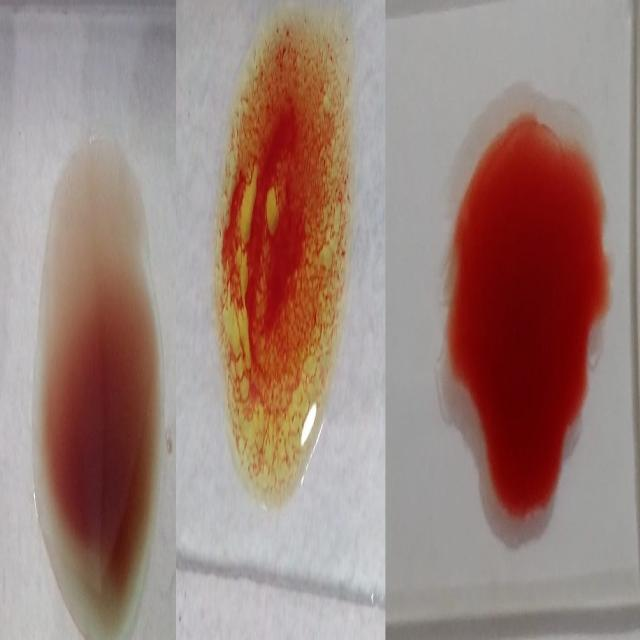B: (219, 24, 345, 507)
